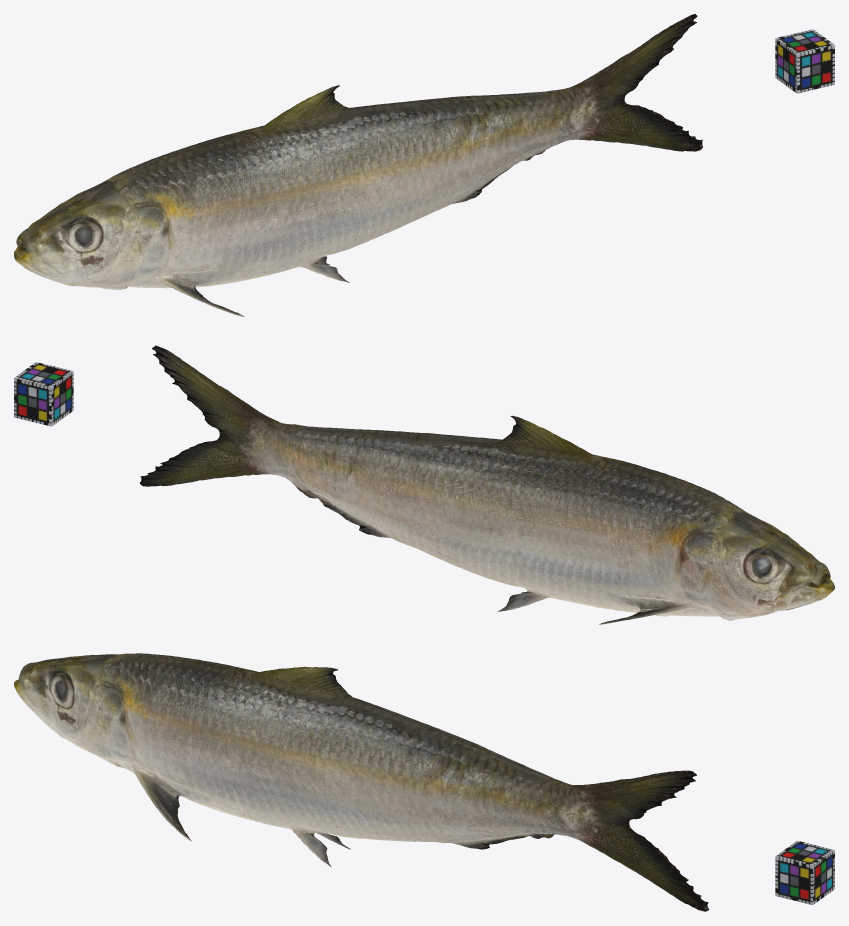
The model's file is scan_sardinella.glb.
3 renders of one model, top to bottom at view 1: azimuth 30°, elevation 25°; view 2: azimuth 150°, elevation 25°; view 3: azimuth 330°, elevation 25°, orthographic.
Visible parts, largest first — view 1: Object_6, Object_4; view 2: Object_6, Object_4; view 3: Object_6, Object_4.
Boxes of the visible parts, x1=… form: Object_6: x1=14, y1=14, x2=702, y2=316; Object_4: x1=775, y1=29, x2=834, y2=93; Object_6: x1=140, y1=345, x2=834, y2=624; Object_4: x1=14, y1=362, x2=73, y2=426; Object_6: x1=14, y1=653, x2=708, y2=911; Object_4: x1=775, y1=840, x2=834, y2=905.
Size of the model in its own units: 0.2076 by 0.047 by 0.0221.
2 materials, 2 textured.
